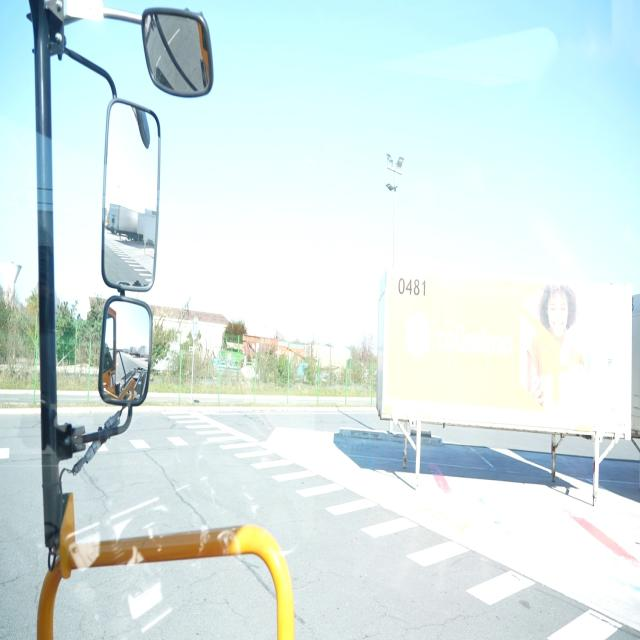Code: (395, 274, 430, 302)
